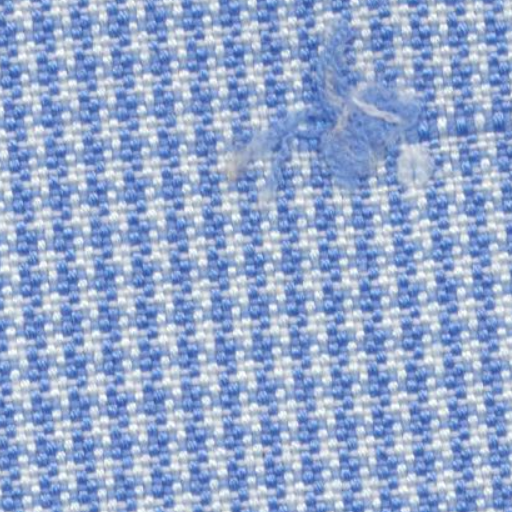MianQiu: (308, 62, 424, 164)
